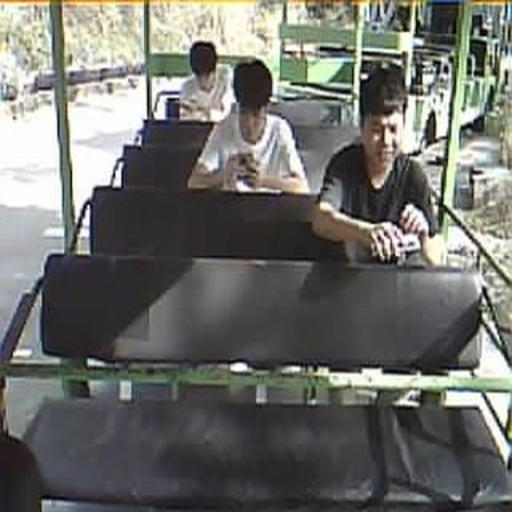persona: (311, 65, 448, 268), (188, 58, 310, 195), (178, 40, 234, 122)
